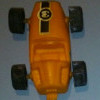naranja: (11, 2, 85, 100)
